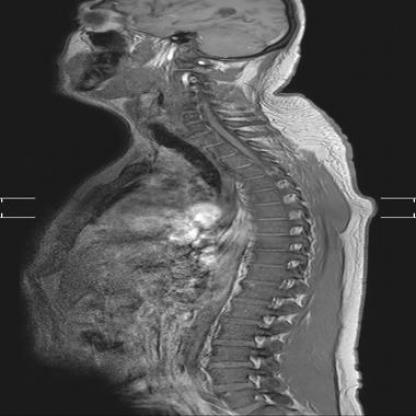Disc Protrusionrotation: (237, 164, 263, 178), (247, 184, 275, 195)
